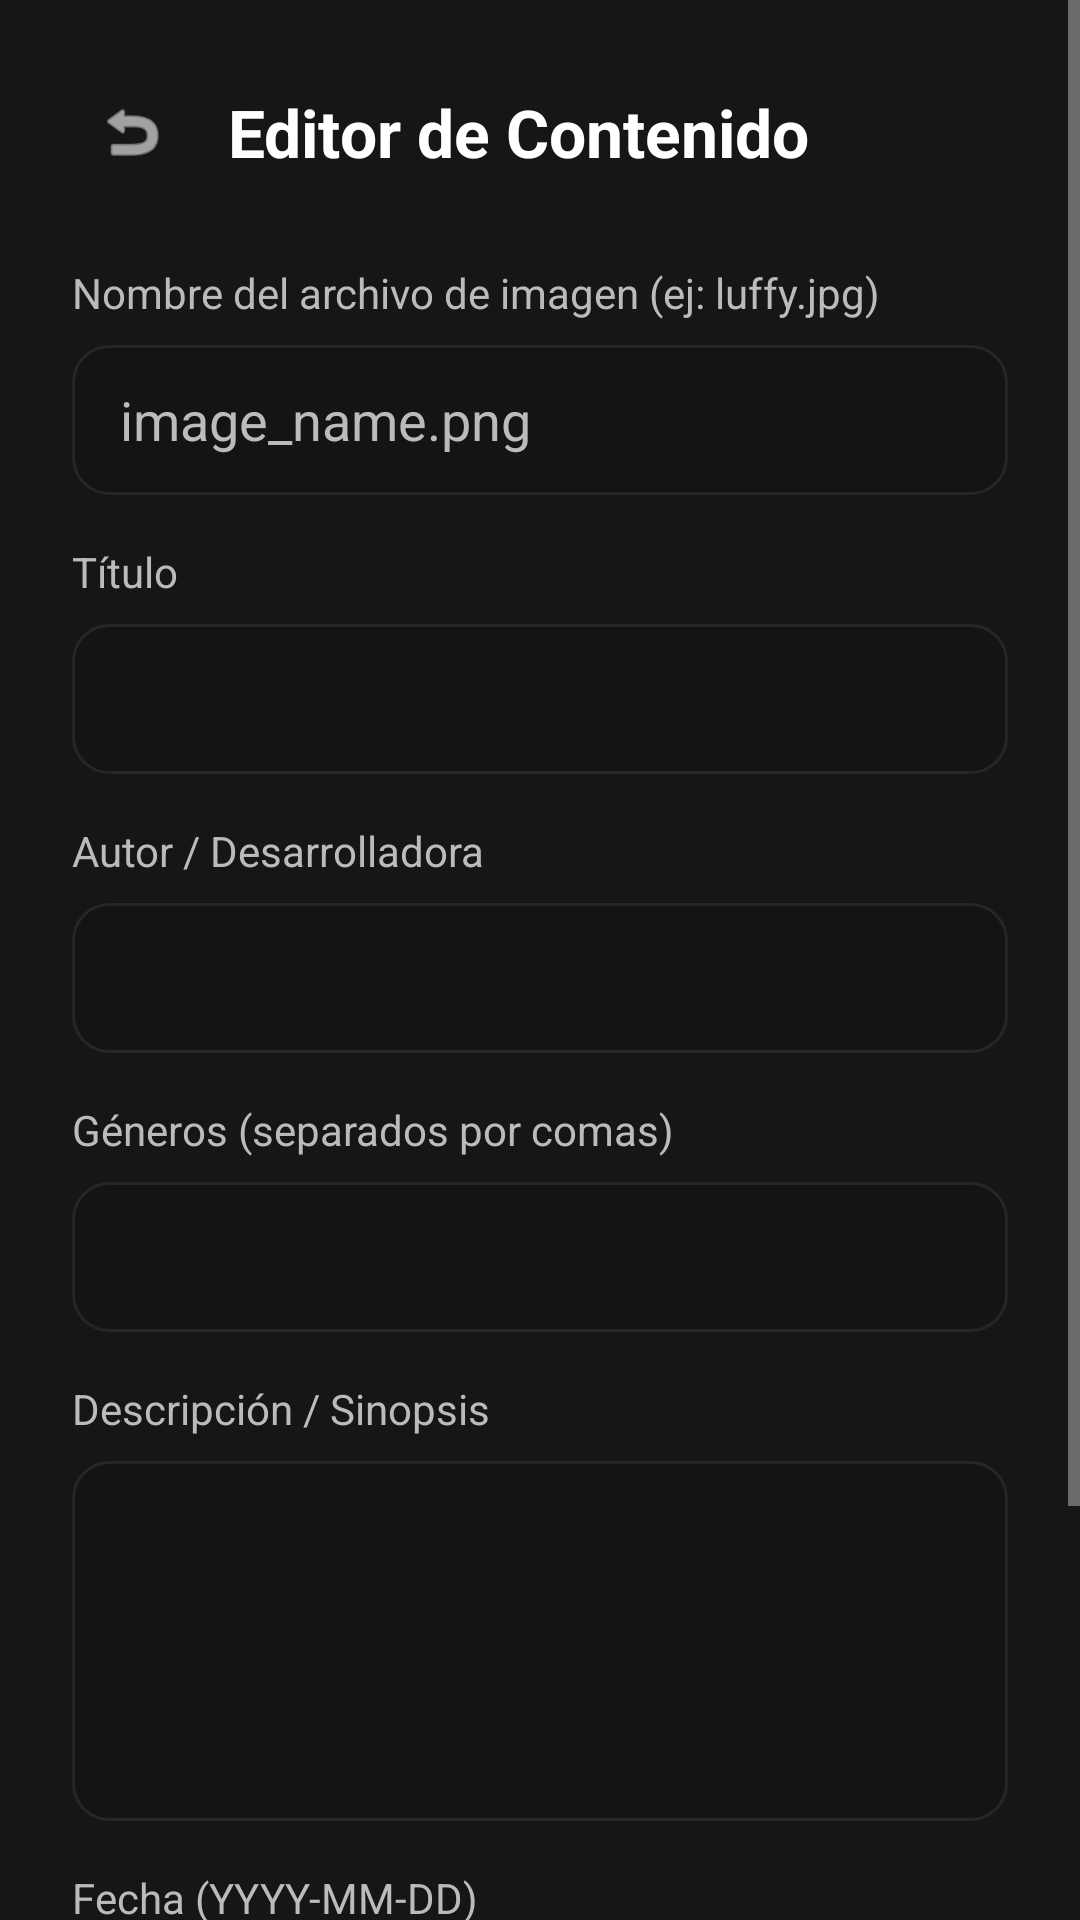

Where to tap for icons on this 1080*1920 app screen, as (x=x, y=y):
revert: (x=133, y=132)
